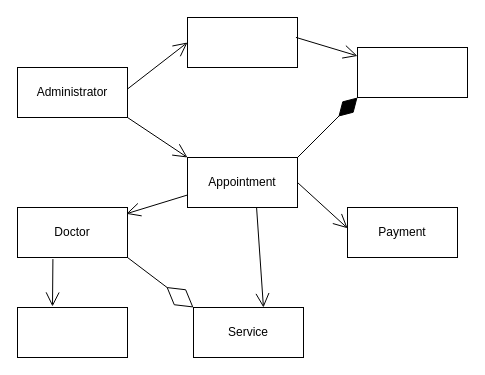
The diagram is 485 pixels wide and 375 high, and some of its shapes have lost their labels. Here are the shapes that lost their labels. From the top down, the centre of each, then its label:
pixel 242 42: Patient
pixel 412 72: MedicalRecord
pixel 72 332: Schedule
